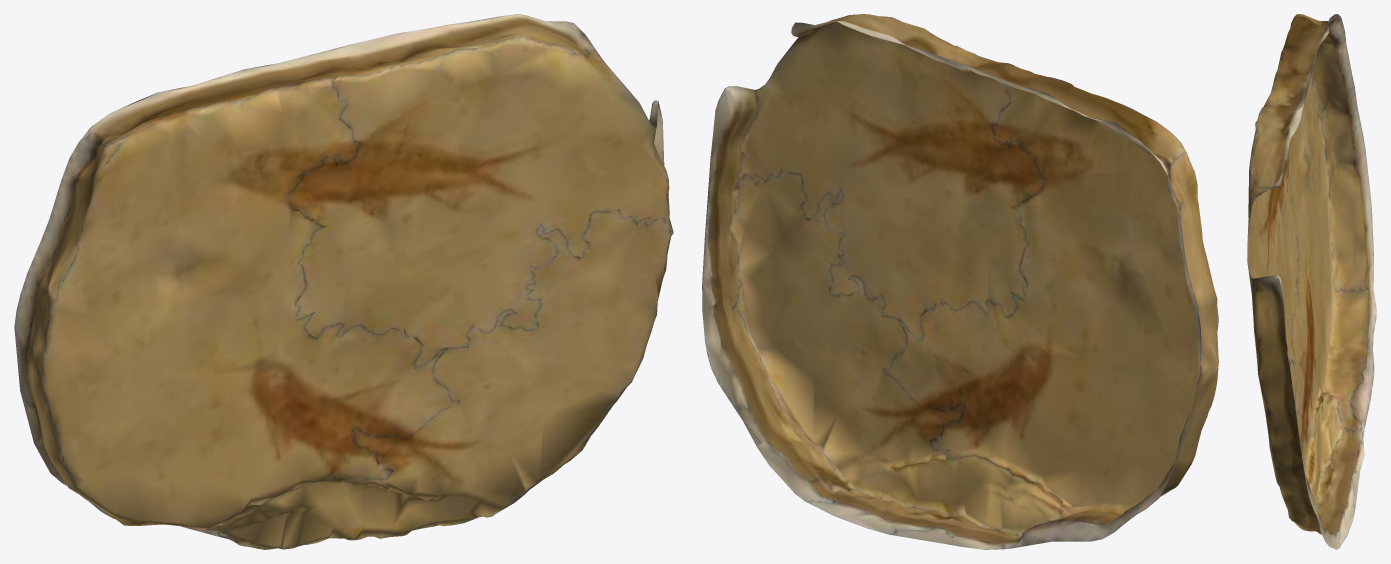
Rendered from PRP_FossilFish_lod.glb.
3 renders of one model, left to right at view 1: azimuth 30°, elevation 25°; view 2: azimuth 150°, elevation 25°; view 3: azimuth 270°, elevation 25°, orthographic. The views are drawn at different scales.
Parts seen in each view (by area): view 1: Object_3; view 2: Object_3; view 3: Object_3.
Part boxes in pixels (left/top/right/bottom): Object_3: left=14, top=14, right=673, bottom=549; Object_3: left=702, top=14, right=1218, bottom=549; Object_3: left=1247, top=14, right=1376, bottom=549.
Bounding box in the file's own units: 0.9884 × 0.8254 × 0.2335.
1 material, 1 textured.
